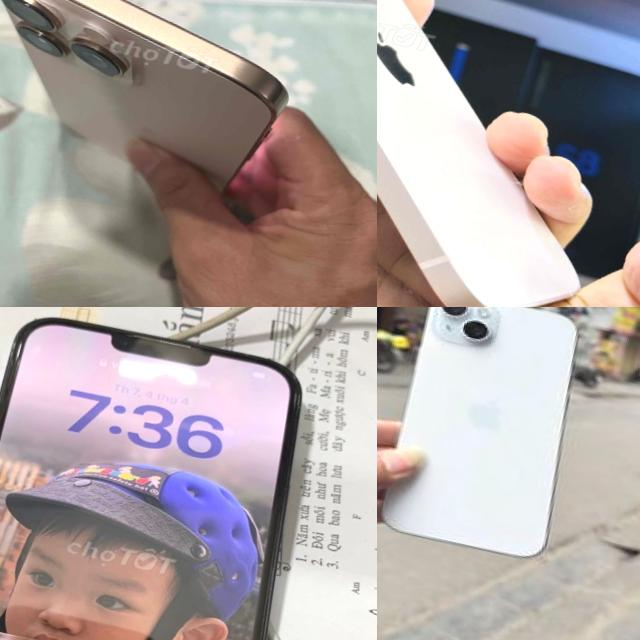gen_12_13: (0, 307, 340, 640), (377, 0, 640, 307)
gen_15: (377, 307, 606, 575)
gen_16: (0, 0, 286, 192)
